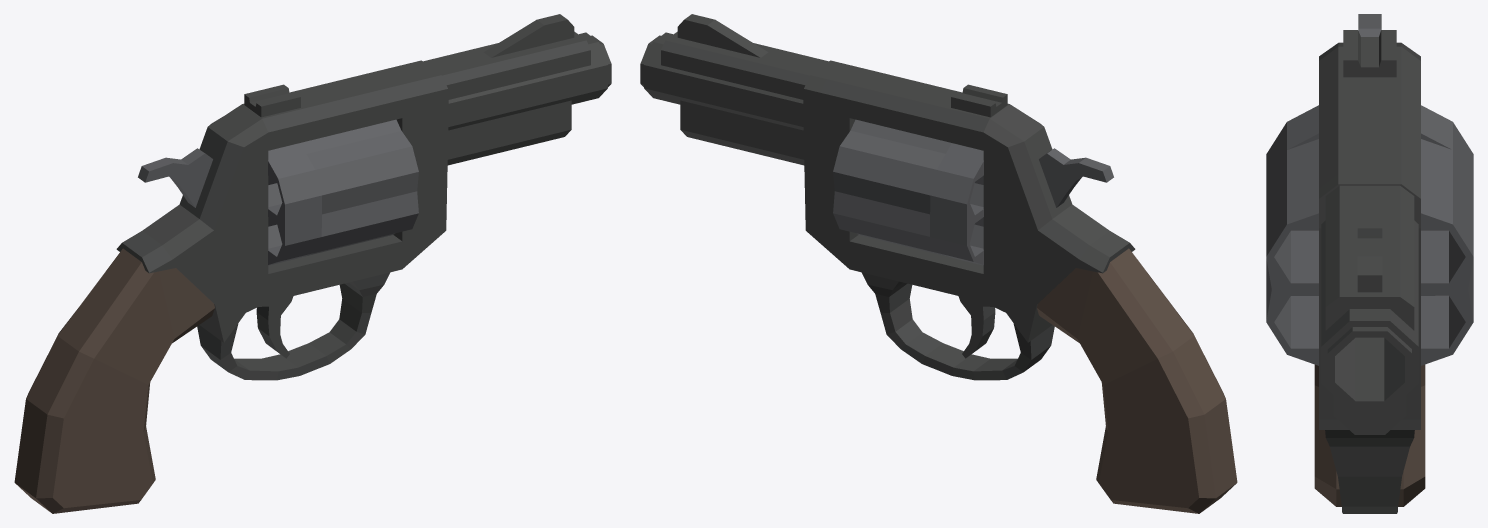
The model's file is revolver_4.glb.
3 renders of one model, left to right at view 1: azimuth 30°, elevation 25°; view 2: azimuth 150°, elevation 25°; view 3: azimuth 270°, elevation 25°, orthographic. The views are drawn at different scales.
Visible parts, largest first — view 1: Revolver_4; view 2: Revolver_4; view 3: Revolver_4.
Boxes of the visible parts, box(x1,y1,x2,y2) form: Revolver_4: box(14, 14, 611, 513); Revolver_4: box(640, 14, 1237, 513); Revolver_4: box(1266, 14, 1473, 513).
Bounding box in the file's own units: 1.47 × 0.9151 × 0.2944.
